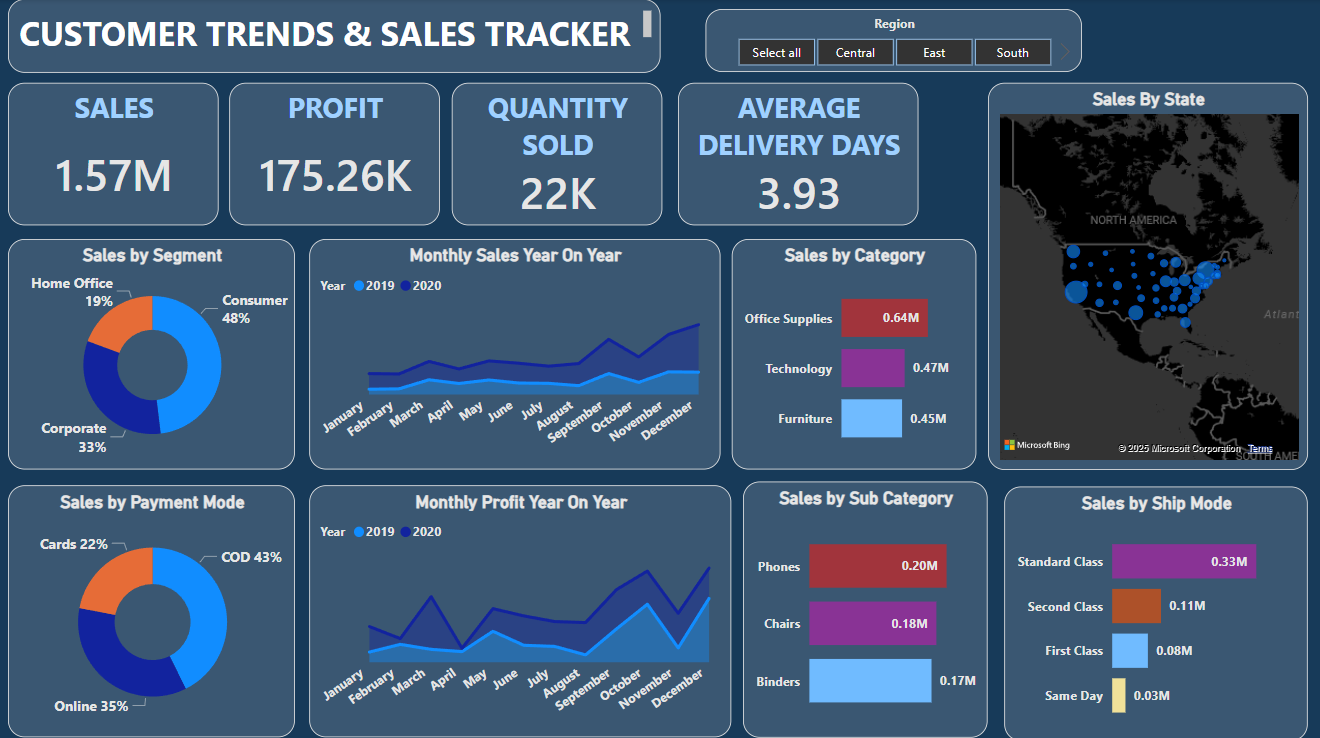

The page's visual inventory and layout, read from the dashboard file:
{"tool":"powerbi","page":{"name":"Page 1","canvas":[1280,720],"ordinal":0},"visuals":[{"type":"clusteredBarChart","title":" Sales by Category","fields":{"Category":["SuperStore_Sales_Dataset.Category"],"Y":["Sum(SuperStore_Sales_Dataset.Sales)"]},"box":[708.1,231.9,236,222.3],"z":0},{"type":"clusteredBarChart","title":" Sales by Sub Category","fields":{"Category":["SuperStore_Sales_Dataset.Sub-Category"],"Y":["Sum(SuperStore_Sales_Dataset.Sales)"]},"box":[719,465.2,236,247],"z":1000},{"type":"clusteredBarChart","title":" Sales by Ship Mode","fields":{"Category":["SuperStore_Sales_Dataset.Ship Mode"],"Y":["Sum(SuperStore_Sales_Dataset.Sales)"]},"box":[971.4,470,292.9,245.7],"z":2000},{"type":"stackedAreaChart","title":"Monthly Sales Year On Year","fields":{"Category":["SuperStore_Sales_Dataset.Order Date.Variation.Date Hierarchy.Month"],"Y":["Sum(SuperStore_Sales_Dataset.Sales)"],"Series":["SuperStore_Sales_Dataset.Order Date.Variation.Date Hierarchy.Year"]},"box":[300.5,231.9,396.6,222.3],"z":3000},{"type":"stackedAreaChart","title":"Monthly Profit Year On Year","fields":{"Category":["SuperStore_Sales_Dataset.Order Date.Variation.Date Hierarchy.Month"],"Series":["SuperStore_Sales_Dataset.Order Date.Variation.Date Hierarchy.Year"],"Y":["Sum(SuperStore_Sales_Dataset.Profit)"]},"box":[300.5,469.3,407.5,242.9],"z":4000},{"type":"donutChart","title":" Sales by Segment","fields":{"Category":["SuperStore_Sales_Dataset.Segment"],"Y":["Sum(SuperStore_Sales_Dataset.Sales)"]},"box":[9.6,231.9,277.2,222.3],"z":5000},{"type":"donutChart","title":" Sales by Payment Mode","fields":{"Y":["Sum(SuperStore_Sales_Dataset.Sales)"],"Category":["SuperStore_Sales_Dataset.Payment Mode"]},"box":[9.6,469.3,277.2,242.9],"z":6000},{"type":"textbox","box":[9.6,0,629.8,71.4],"z":7000},{"type":"card","title":"SALES","fields":{"Values":["Sum(SuperStore_Sales_Dataset.Sales)"]},"box":[9.6,81,203.1,137.2],"z":8000},{"type":"card","title":"PROFIT","fields":{"Values":["Sum(SuperStore_Sales_Dataset.Profit)"]},"box":[223.7,81,203.1,137.2],"z":9000},{"type":"card","title":"QUANTITY SOLD","fields":{"Values":["Sum(SuperStore_Sales_Dataset.Quantity)"]},"box":[437.7,81,203.1,137.2],"z":10000},{"type":"card","title":"AVERAGE DELIVERY DAYS","fields":{"Values":["Avg(SuperStore_Sales_Dataset.AVGDELIVERY)"]},"box":[655.9,81,231.9,137.2],"z":11000},{"type":"slicer","title":"Region","fields":{"Values":["SuperStore_Sales_Dataset.Region"]},"box":[682.2,10,363.3,61.1],"z":12000},{"type":"map","title":"Sales By State","fields":{"Category":["SuperStore_Sales_Dataset.State"],"Size":["Sum(SuperStore_Sales_Dataset.Sales)"]},"box":[955.1,81,308.7,373.2],"z":13000}]}

Visuals, with their boxes in screenshot pixels (x1, y1, x2, y2), scaled from the page's 1280x720 canvas onto the 1320x738 screenshot:
" Sales by Category" clusteredBarChart: [730,238,974,466]
" Sales by Sub Category" clusteredBarChart: [741,477,985,730]
" Sales by Ship Mode" clusteredBarChart: [1002,482,1304,734]
"Monthly Sales Year On Year" stackedAreaChart: [310,238,719,466]
"Monthly Profit Year On Year" stackedAreaChart: [310,481,730,730]
" Sales by Segment" donutChart: [10,238,296,466]
" Sales by Payment Mode" donutChart: [10,481,296,730]
textbox: [10,0,659,73]
"SALES" card: [10,83,219,224]
"PROFIT" card: [231,83,440,224]
"QUANTITY SOLD" card: [451,83,661,224]
"AVERAGE DELIVERY DAYS" card: [676,83,916,224]
"Region" slicer: [704,10,1078,73]
"Sales By State" map: [985,83,1303,466]
